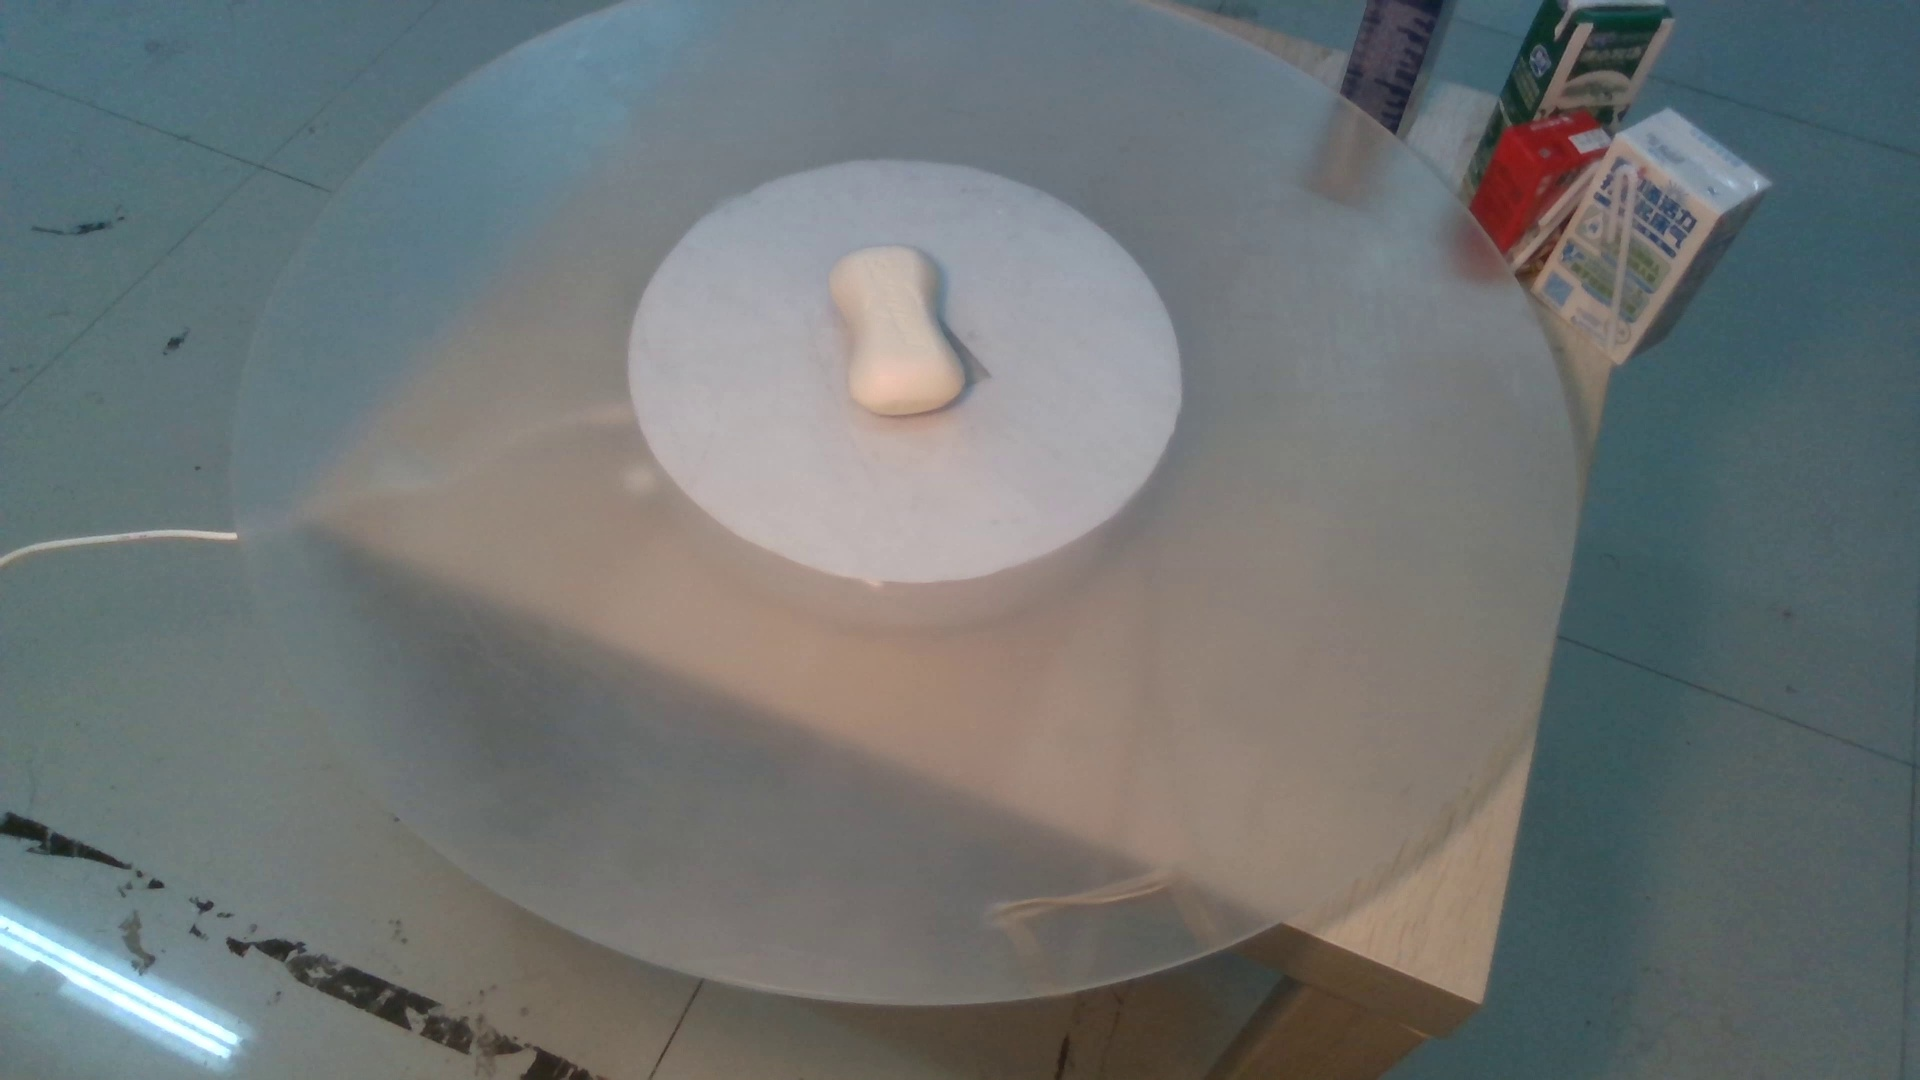CA003_1: (800, 241, 982, 425)
